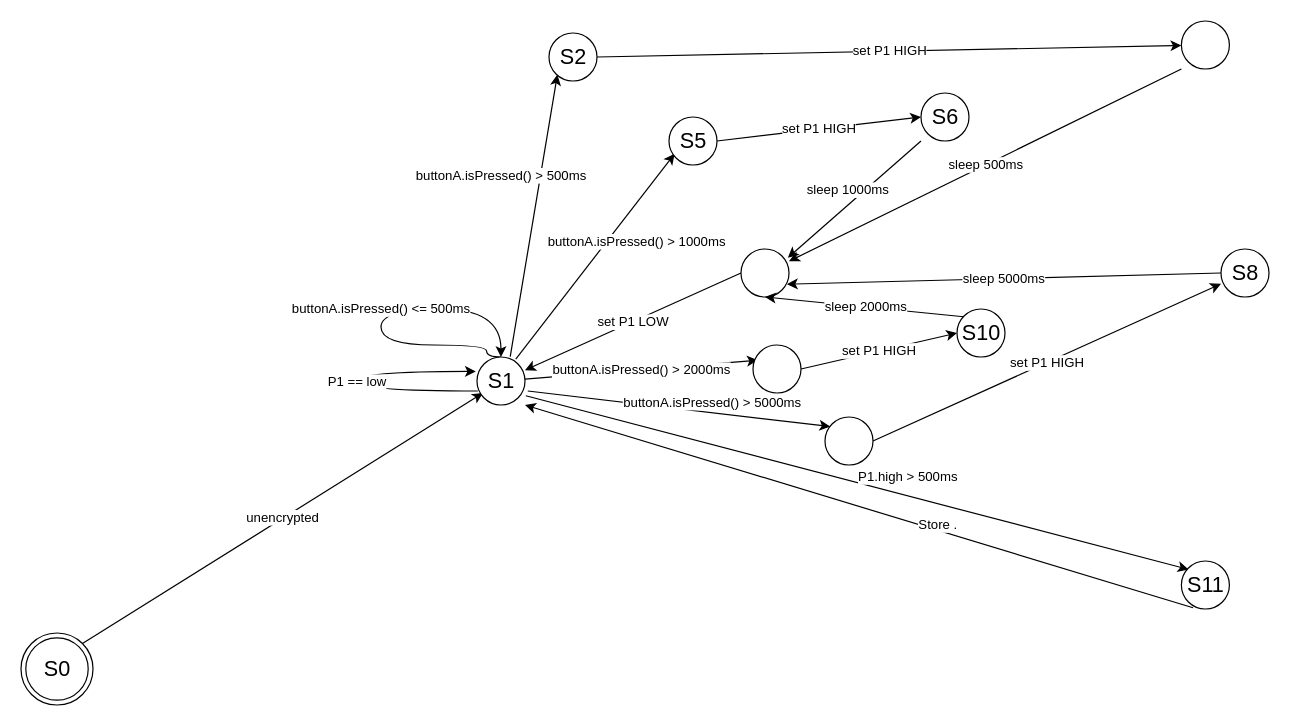
The diagram is 1290 pixels wide and 726 high, and some of its shapes have lost their labels. The shapes that lost their labels are listed below. From the top down, each one's centre as x and y in pixels, then its label:
At (x=1204, y=44): "S3".
At (x=764, y=272): "S4".
At (x=776, y=368): "S9".
At (x=848, y=440): "S7".
